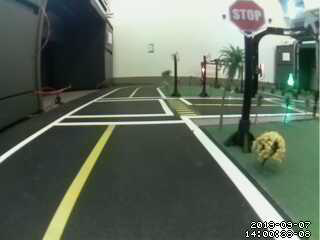Stop_Sign: (227, 1, 272, 38)
